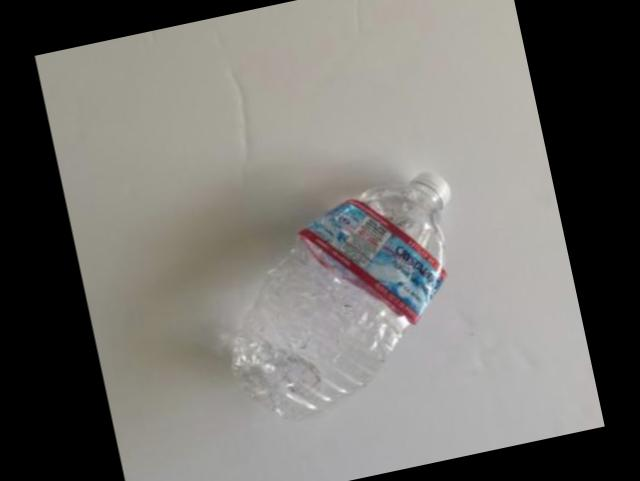plastic: (222, 174, 448, 420)
